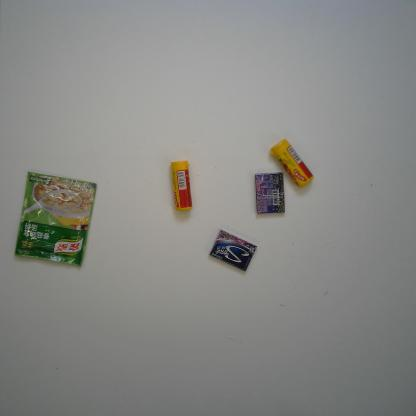Candy: (270, 138, 314, 189), (170, 160, 193, 212)
Gum: (208, 228, 258, 273), (254, 171, 286, 215)
Seasoner: (13, 171, 98, 268)
